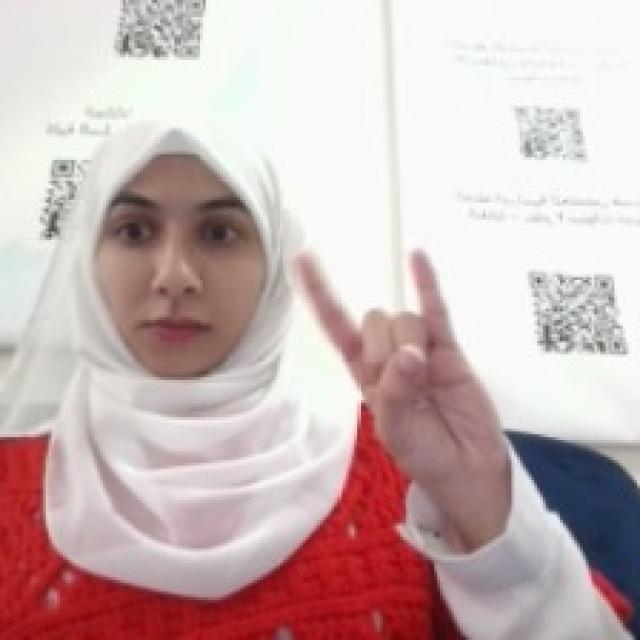No: (286, 240, 508, 480)
